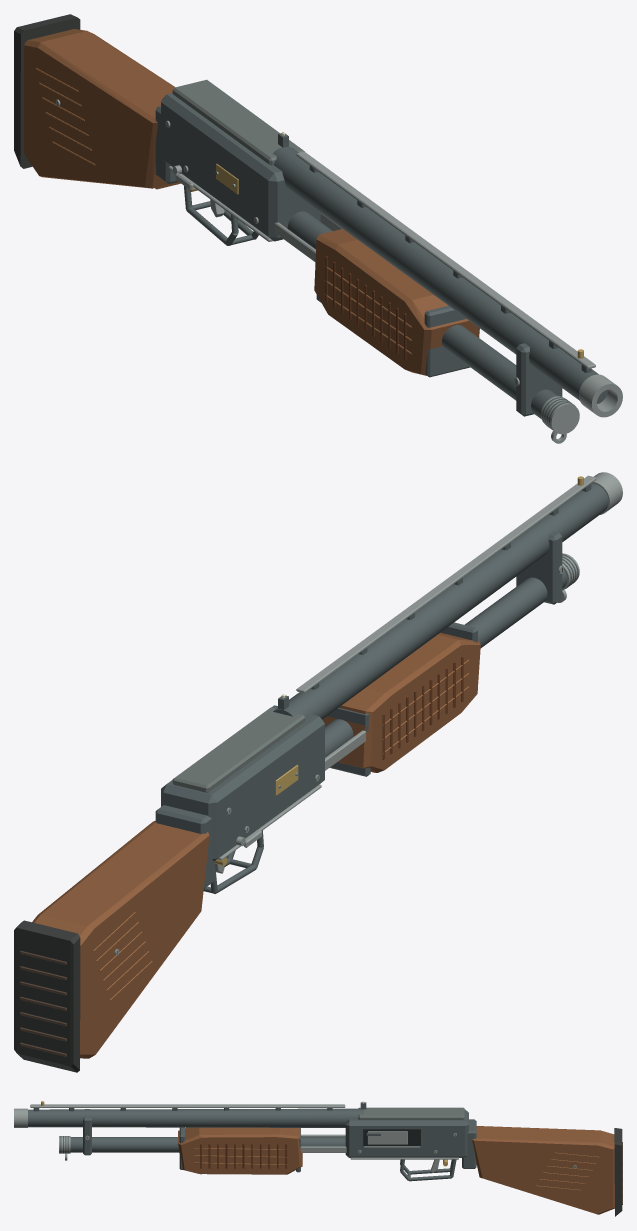
The model's file is shotgun.glb.
3 views of the same model, one above another, from view 1: azimuth 30°, elevation 25°; view 2: azimuth 150°, elevation 25°; view 3: azimuth 270°, elevation 25° (orthographic). The views are drawn at different scales.
Parts seen in each view (by area): view 1: Walnut buttstock, Barrel, Pump, Receiver, Magazine, Receiver top rib, Ventilated barrel rib, Butt pad, Barrel clamp, Pump grooves, Pump front band, Muzzle crown (+4 smaller); view 2: Walnut buttstock, Barrel, Pump, Receiver, Butt pad, Receiver top rib, Magazine, Ventilated barrel rib, Barrel clamp, Pump grooves, Stock socket, Butt pad tread; view 3: Walnut buttstock, Barrel, Pump, Receiver, Magazine, Receiver top rib, Ventilated barrel rib, Butt pad, Pump grooves, Ejection port, Bolt, Stock socket (+9 smaller).
Part boxes in pixels (x1,y1,x2,y2): Walnut buttstock: (24,29,178,188); Barrel: (273,146,607,403); Pump: (314,229,479,375); Receiver: (161,93,320,241); Magazine: (287,211,558,418); Receiver top rib: (172,79,304,165); Ventilated barrel rib: (296,151,595,368); Butt pad: (14,14,80,168); Barrel clamp: (516,343,562,416); Pump grooves: (325,256,406,360); Pump front band: (424,305,470,377); Muzzle crown: (579,374,622,417); Walnut buttstock: (32,820,209,1058); Barrel: (273,483,608,719); Pump: (322,632,480,772); Receiver: (161,705,324,860); Butt pad: (14,920,80,1072); Receiver top rib: (172,707,305,792); Magazine: (325,570,567,757); Ventilated barrel rib: (296,475,595,693); Barrel clamp: (516,531,562,604); Pump grooves: (382,656,463,759); Stock socket: (155,805,215,888); Butt pad tread: (20,951,66,1056); Walnut buttstock: (472,1126,614,1214); Barrel: (28,1108,363,1127); Pump: (178,1127,302,1174); Receiver: (345,1109,468,1157); Magazine: (70,1137,345,1152); Receiver top rib: (358,1107,464,1119); Ventilated barrel rib: (30,1104,345,1107); Butt pad: (614,1128,622,1216); Pump grooves: (200,1143,287,1168); Ejection port: (363,1129,420,1146); Bolt: (367,1131,407,1144); Stock socket: (462,1119,476,1168).
Size of the model in its own units: 0.0704 by 0.197 by 1.
